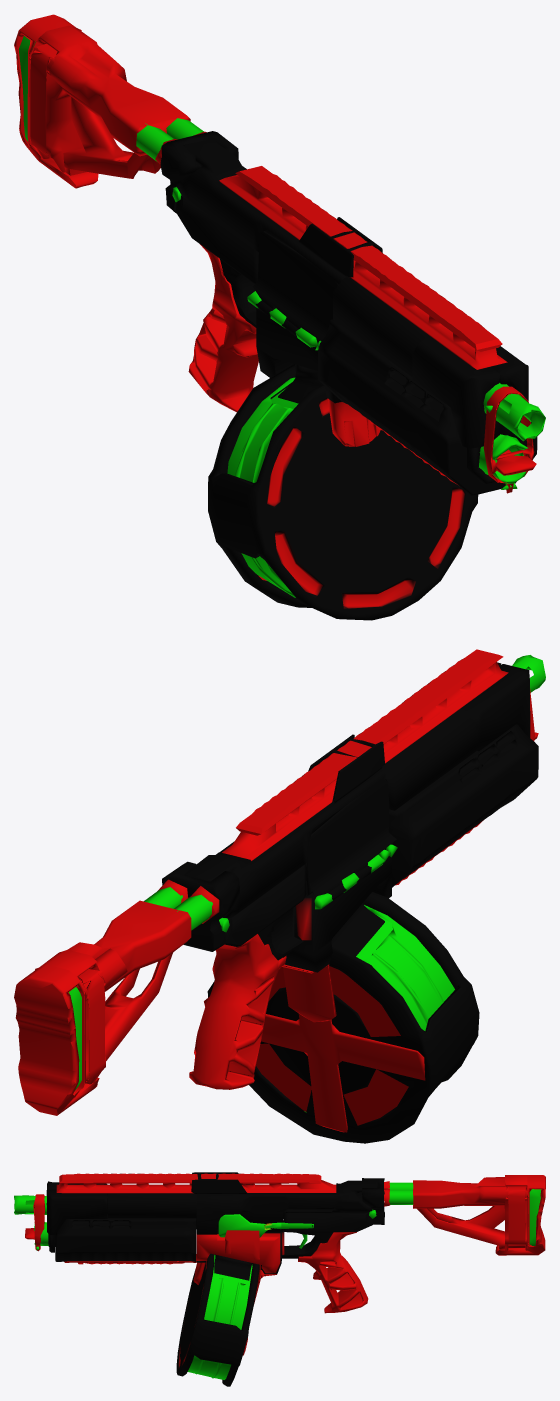
Rendered from SM_Shotgun.FBX.
The picture shows the model from 3 angles, top to bottom: view 1: azimuth 30°, elevation 25°; view 2: azimuth 150°, elevation 25°; view 3: azimuth 270°, elevation 25°; orthographic projection. The views are drawn at different scales.
Parts seen in each view (by area): view 1: SM_Shotgun; view 2: SM_Shotgun; view 3: SM_Shotgun.
Boxes of the visible parts, x1,y1,x2,y2 form: SM_Shotgun: (14,14,545,620); SM_Shotgun: (14,649,545,1143); SM_Shotgun: (14,1172,545,1386).
Bounding box in the file's own units: 18.89 × 72.28 × 30.78.
